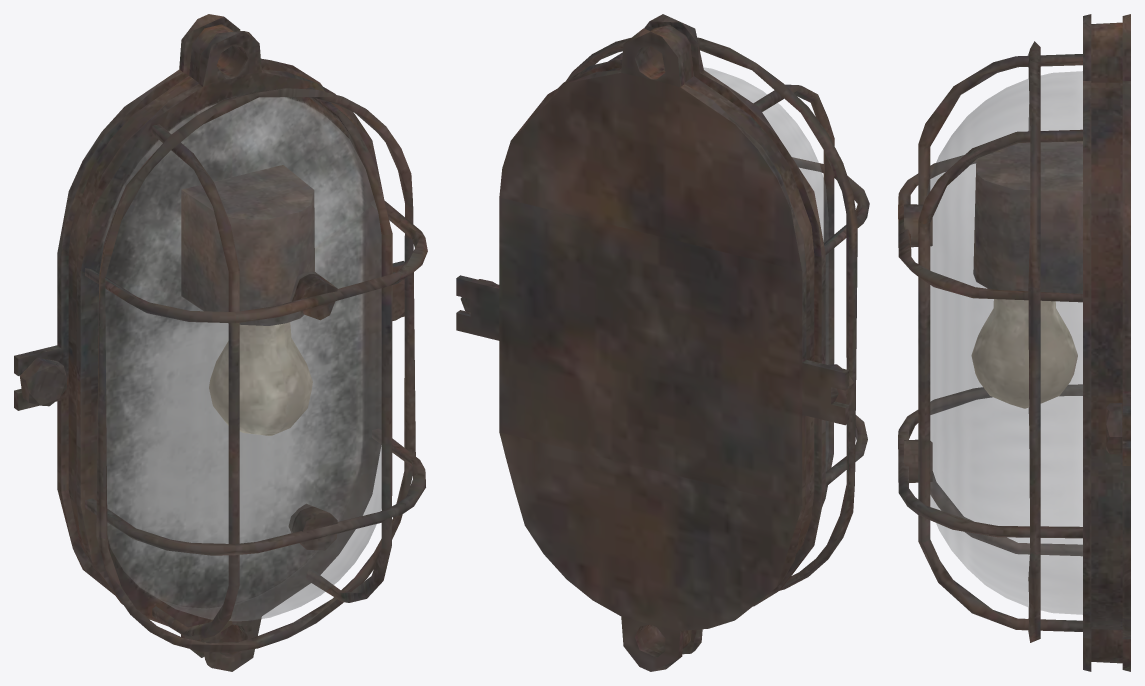
File: wallLamp.glb
The picture shows the model from 3 angles, left to right: view 1: azimuth 30°, elevation 25°; view 2: azimuth 150°, elevation 25°; view 3: azimuth 270°, elevation 25°; orthographic projection.
Visible parts, largest first — view 1: industrial_wall_lamp; view 2: industrial_wall_lamp; view 3: industrial_wall_lamp.
Boxes of the visible parts, <box> form: industrial_wall_lamp: <box>14,14,427,671</box>; industrial_wall_lamp: <box>456,14,869,671</box>; industrial_wall_lamp: <box>898,14,1130,671</box>.
Bounding box in the file's own units: 0.2734 × 0.4299 × 0.1393.
2 materials, 2 textured.
